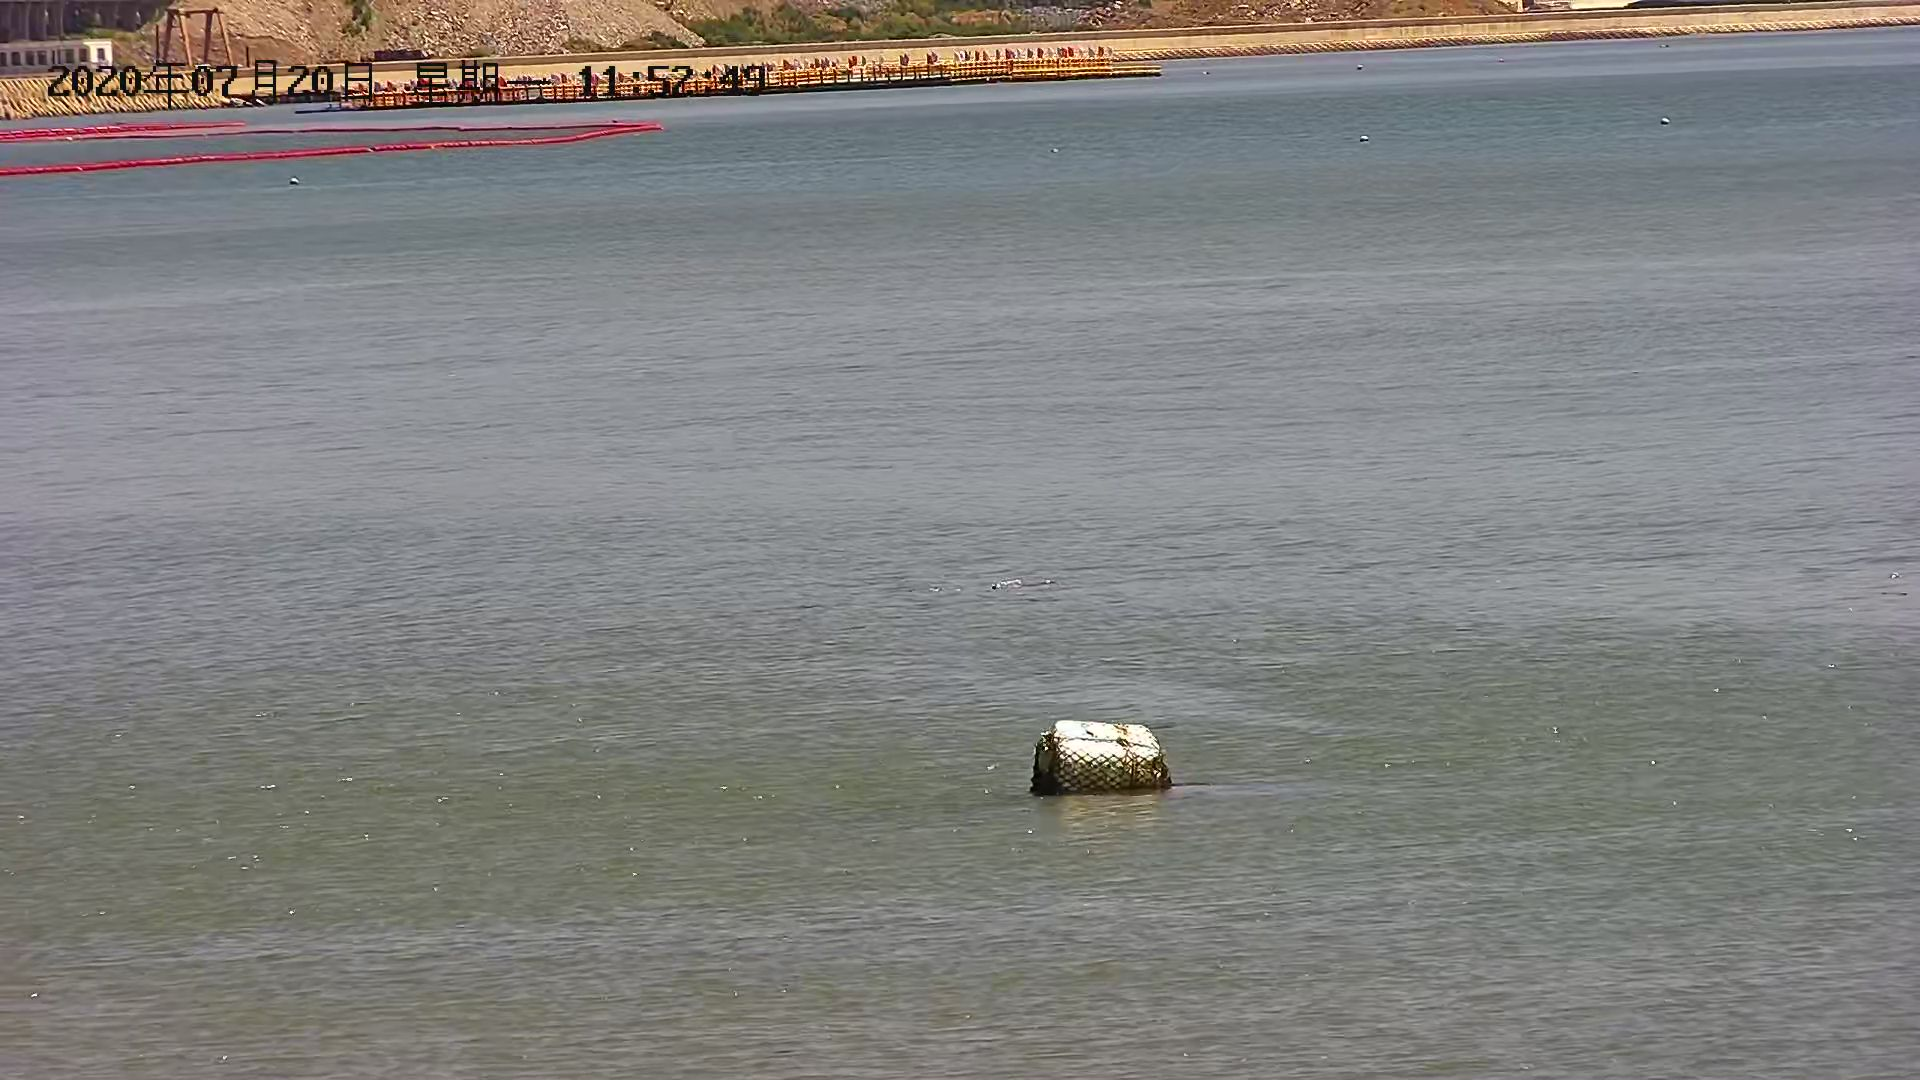ball: (1017, 712, 1182, 796)
harbor: (3, 4, 1207, 98)
